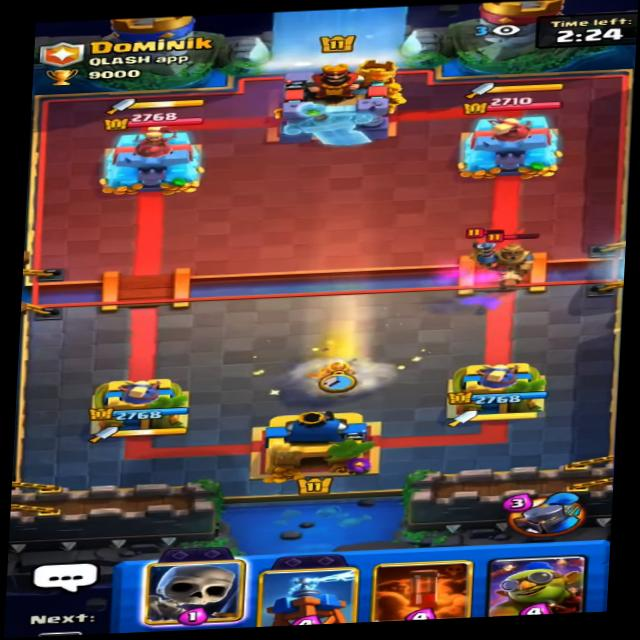Bomber: (457, 222, 514, 268)
Prince: (480, 226, 544, 294)
